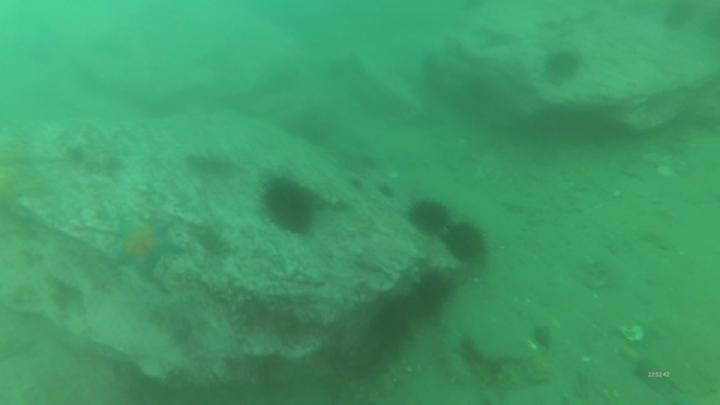echinus: (267, 185, 317, 234), (369, 300, 413, 338), (448, 224, 485, 260), (409, 200, 447, 234), (418, 275, 446, 317), (549, 54, 578, 76)
holothurian: (440, 331, 469, 387)
starfish: (111, 214, 178, 278)
